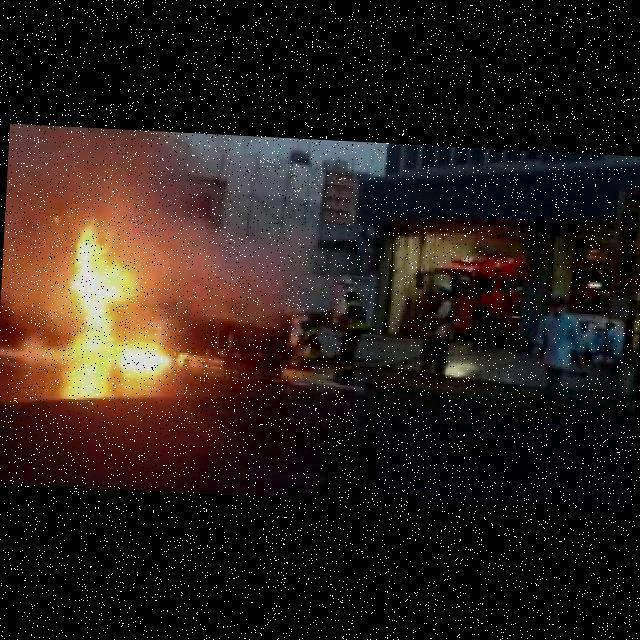Fire: (65, 222, 137, 334), (117, 340, 189, 376)
Smoke: (120, 152, 340, 332), (8, 124, 204, 236)
